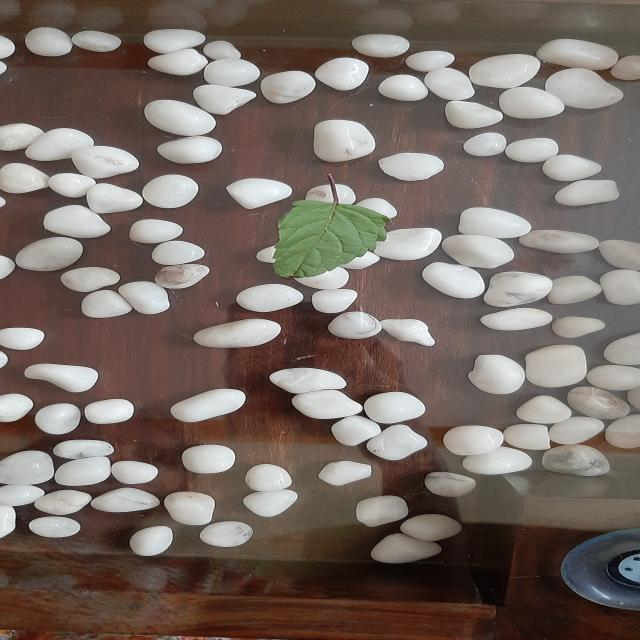tulsi: (274, 200, 390, 278)
